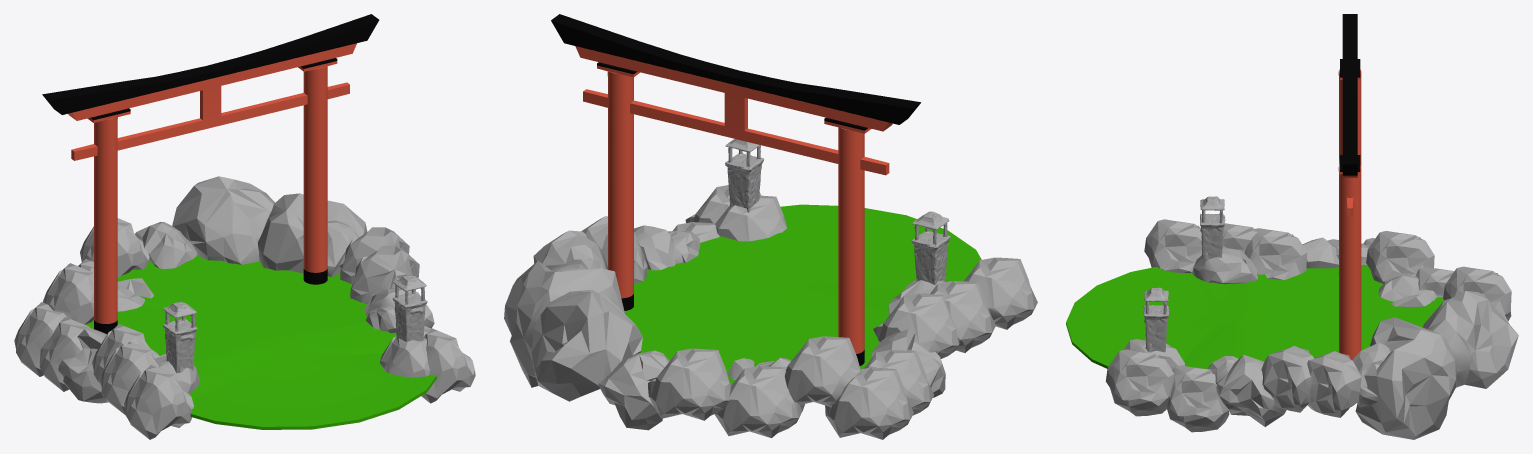
Rendered from temple gate scene.fbx.
The picture shows the model from 3 angles, left to right: view 1: azimuth 30°, elevation 25°; view 2: azimuth 150°, elevation 25°; view 3: azimuth 270°, elevation 25°; orthographic projection. The views are drawn at different scales.
Visible parts, largest first — view 1: polySurface3; view 2: polySurface3; view 3: polySurface3.
Part boxes in pixels (box(x1,y1,x2,y2)): polySurface3: box(14, 14, 475, 439); polySurface3: box(504, 14, 1037, 439); polySurface3: box(1066, 14, 1518, 439).
Size of the model in its own units: 45.53 by 35.97 by 51.91.
